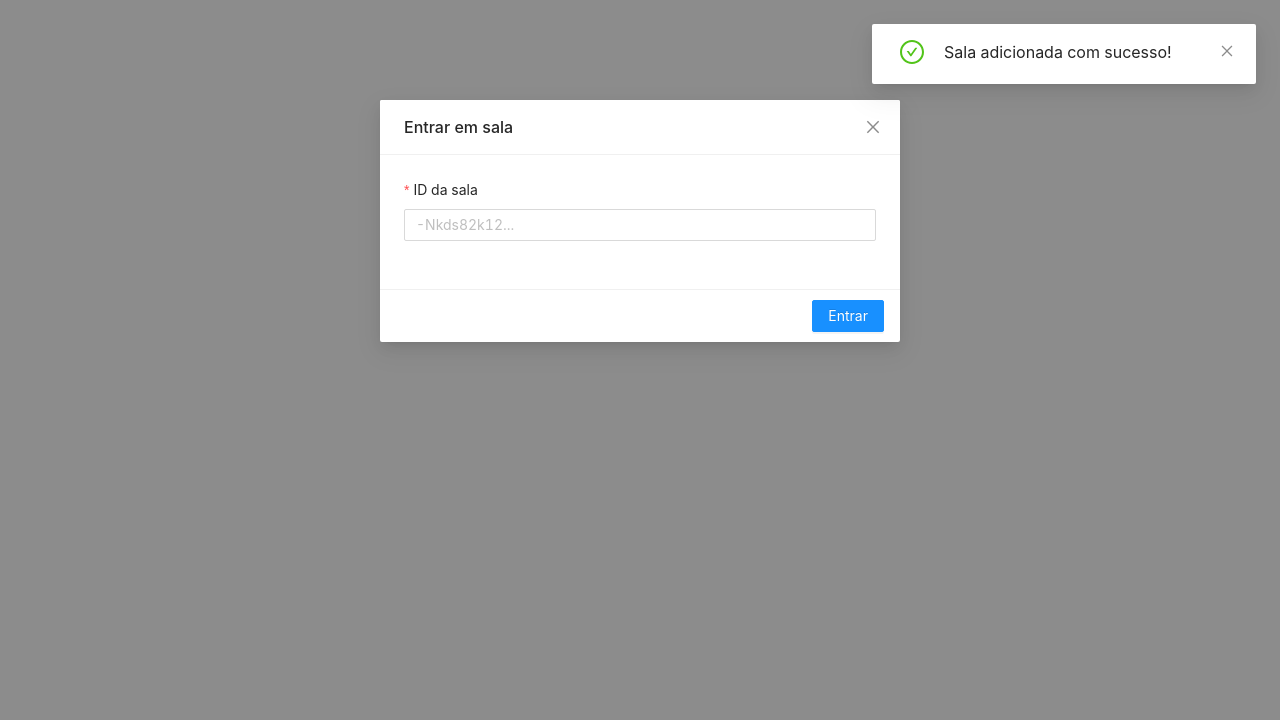
Test case: JoinRoomModalForm › should not allow user to join a room they already joined
Type "room-id" into the field. click: [640, 225]
box: [404, 209, 876, 241]
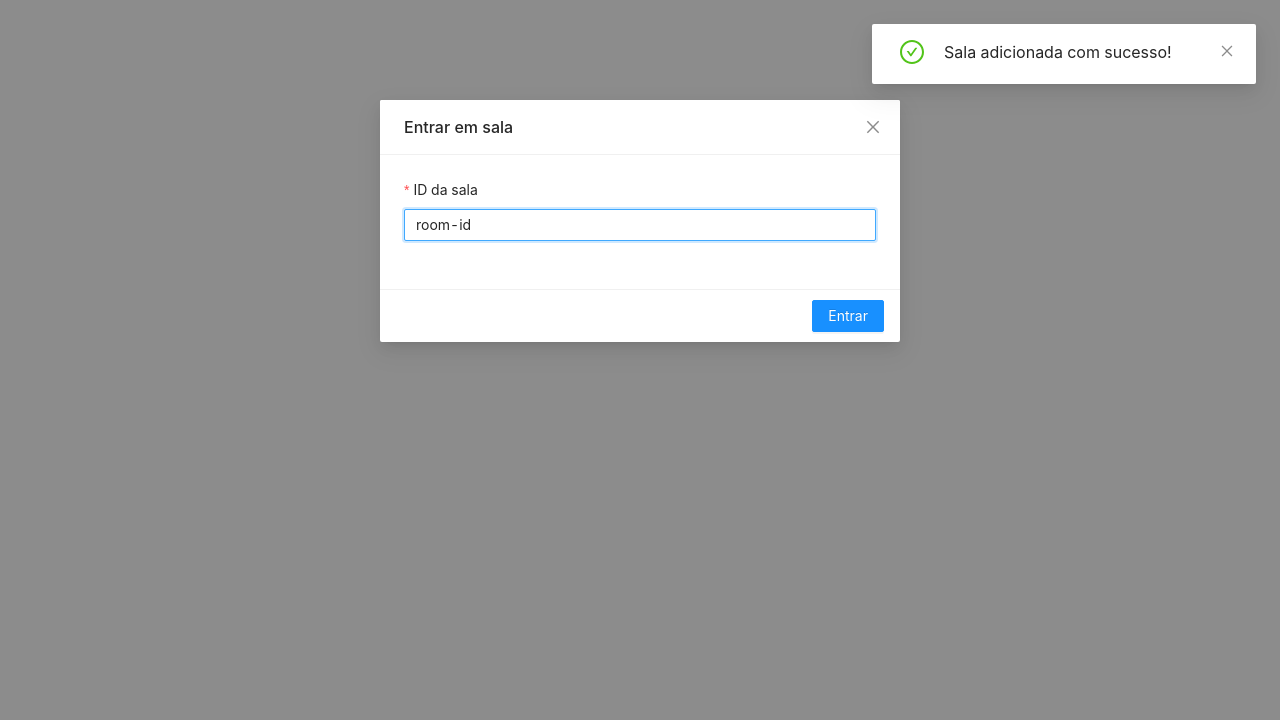
Click the button "Entrar". click: [848, 316]
box: [812, 300, 884, 332]
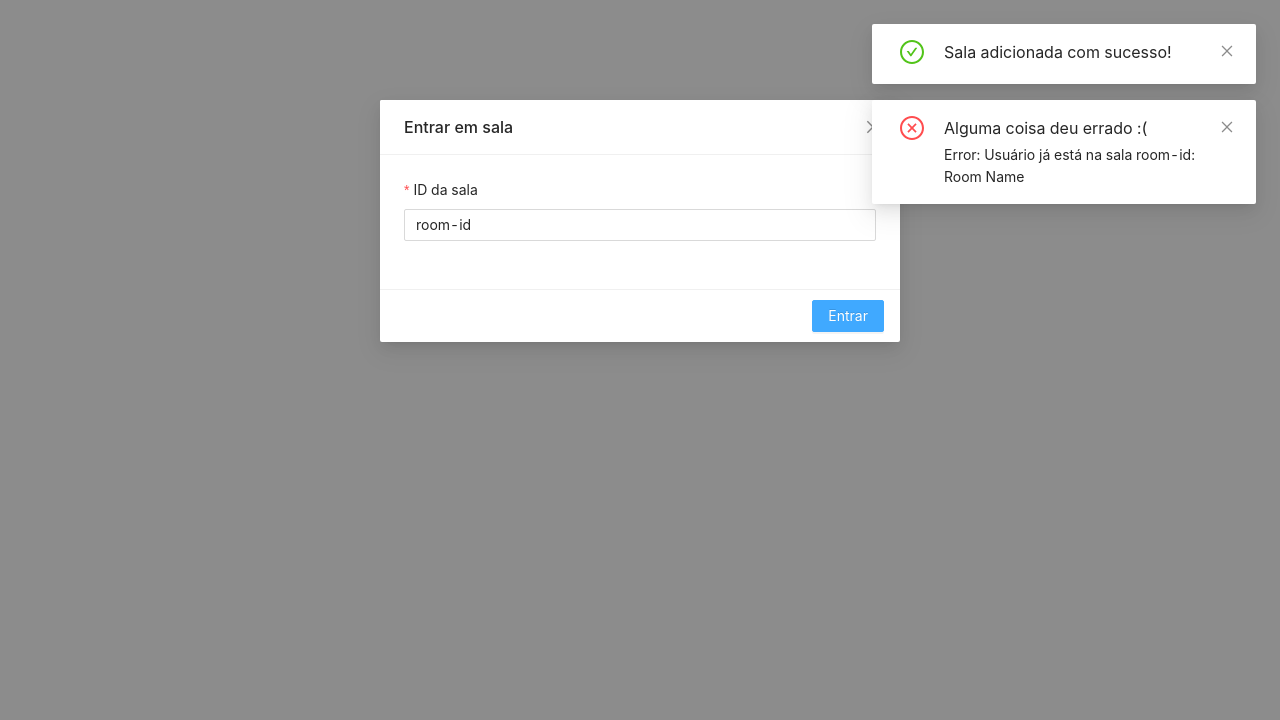
Expected: the text "Error: Usuário já está na sala room-id: Room Name" is shown, [944, 144, 1232, 188]
